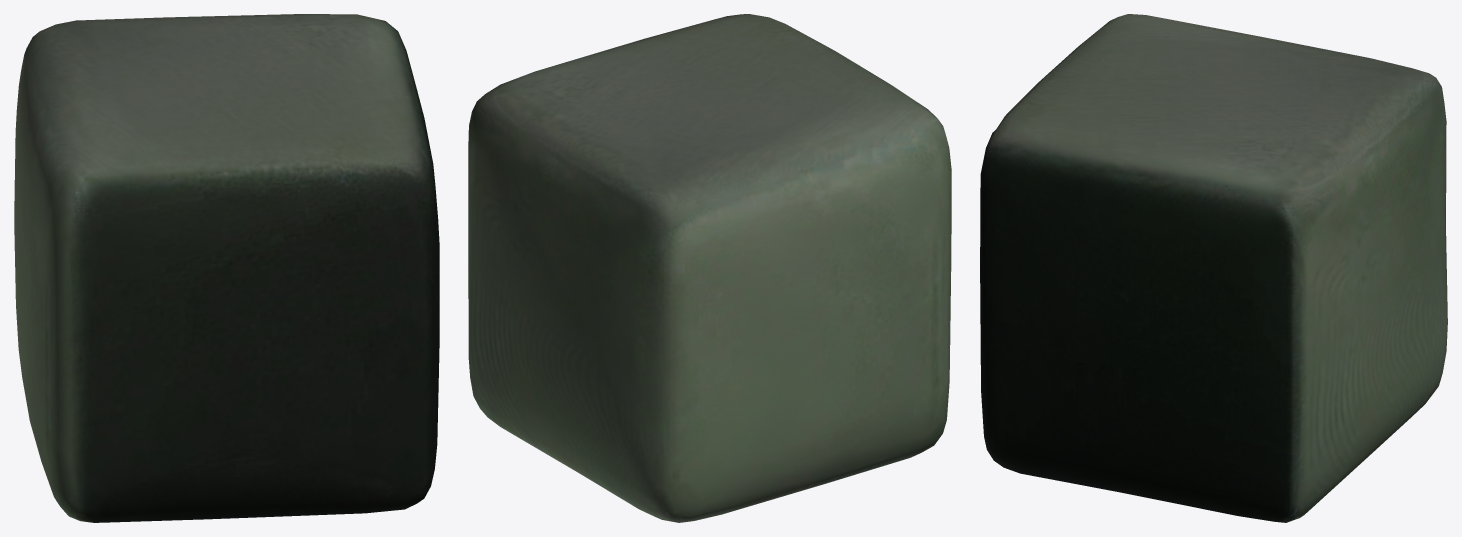
The model's file is cubesofa.obj.
3 renders of one model, left to right at view 1: azimuth 30°, elevation 25°; view 2: azimuth 150°, elevation 25°; view 3: azimuth 270°, elevation 25°, orthographic. The views are drawn at different scales.
Parts seen in each view (by area): view 1: geometry_0; view 2: geometry_0; view 3: geometry_0.
Part boxes in pixels (x1,y1,x2,y2): geometry_0: [14, 14, 439, 522]; geometry_0: [468, 14, 951, 522]; geometry_0: [980, 14, 1447, 522].
Size of the model in its own units: 1.59 by 1.31 by 1.59.
Materials: 1 (1 with a texture image).
